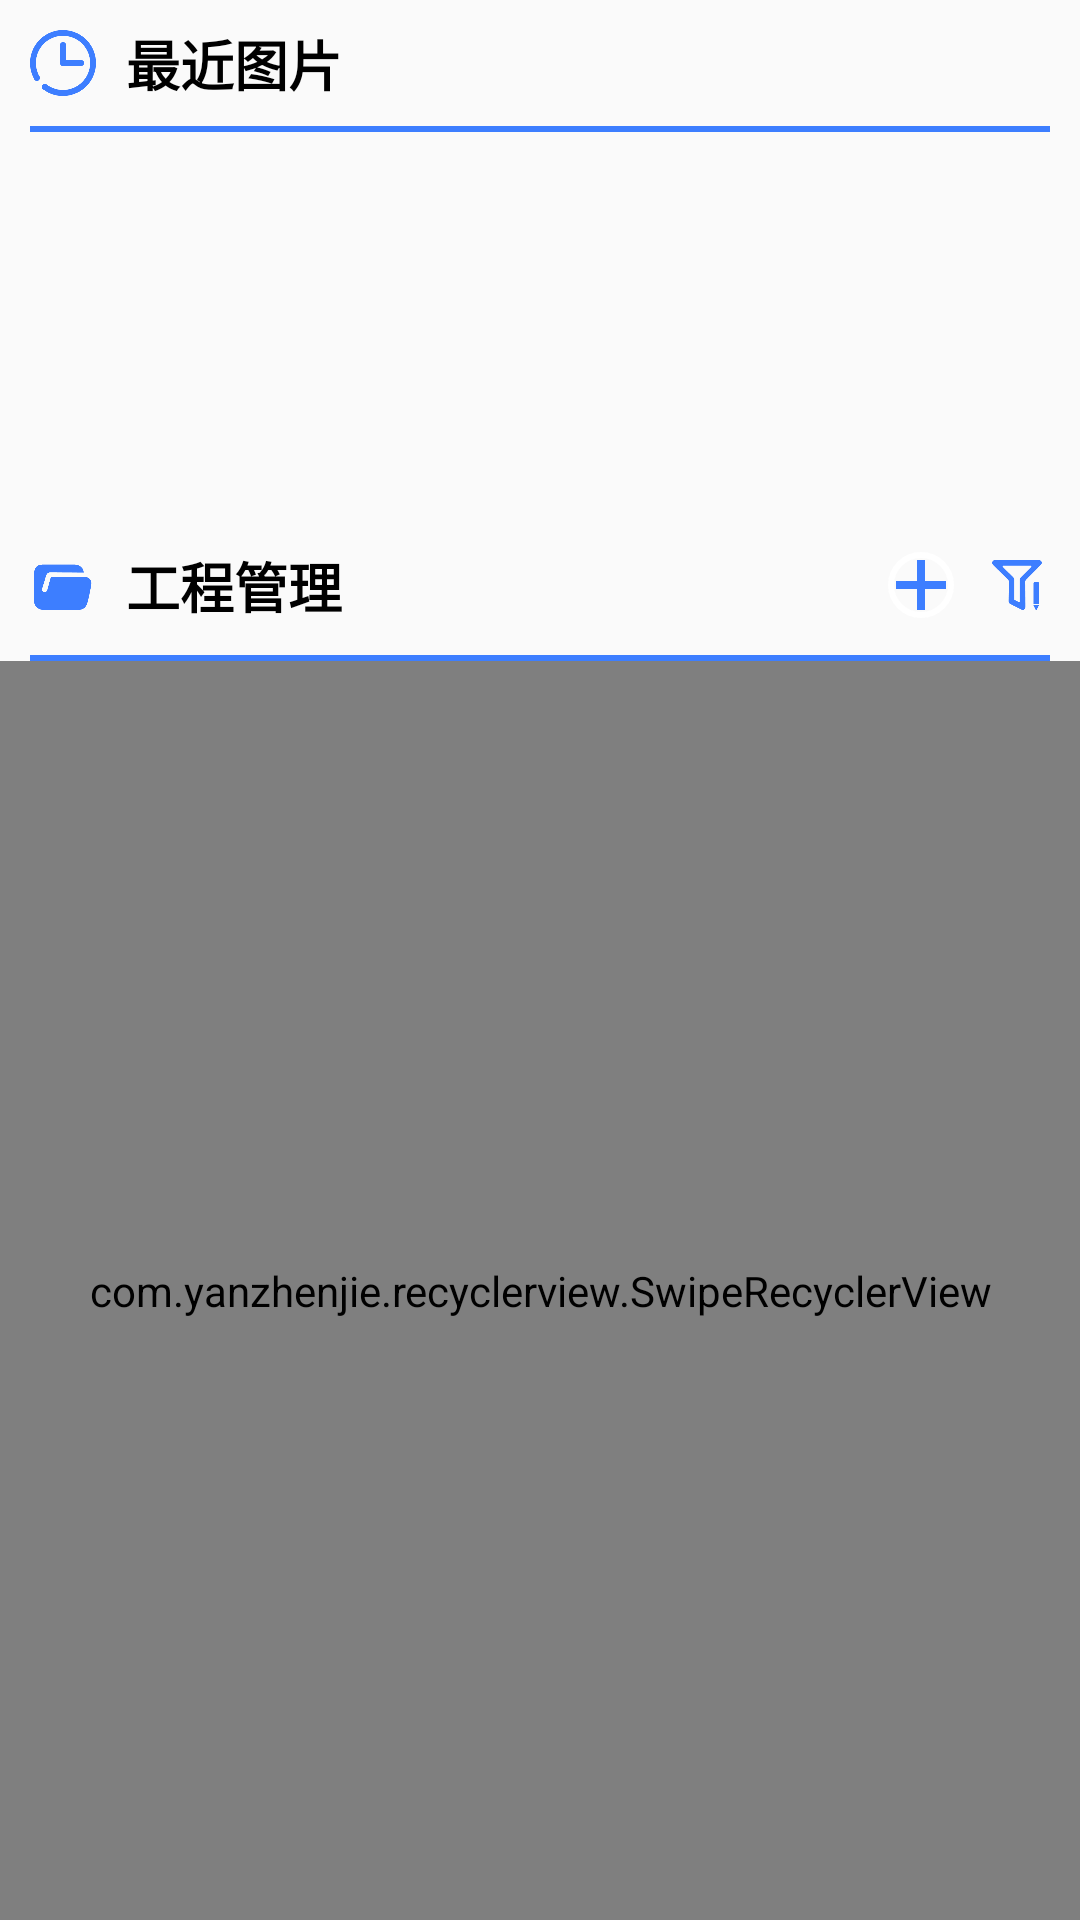

Screen size 1080w x 1920h. Icon name, then its box in pixels as (x1, y1, x2, y2):
dir: (34, 564, 92, 610)
filter: (992, 560, 1042, 610)
history: (30, 30, 96, 96)
plus: (896, 560, 946, 610)
